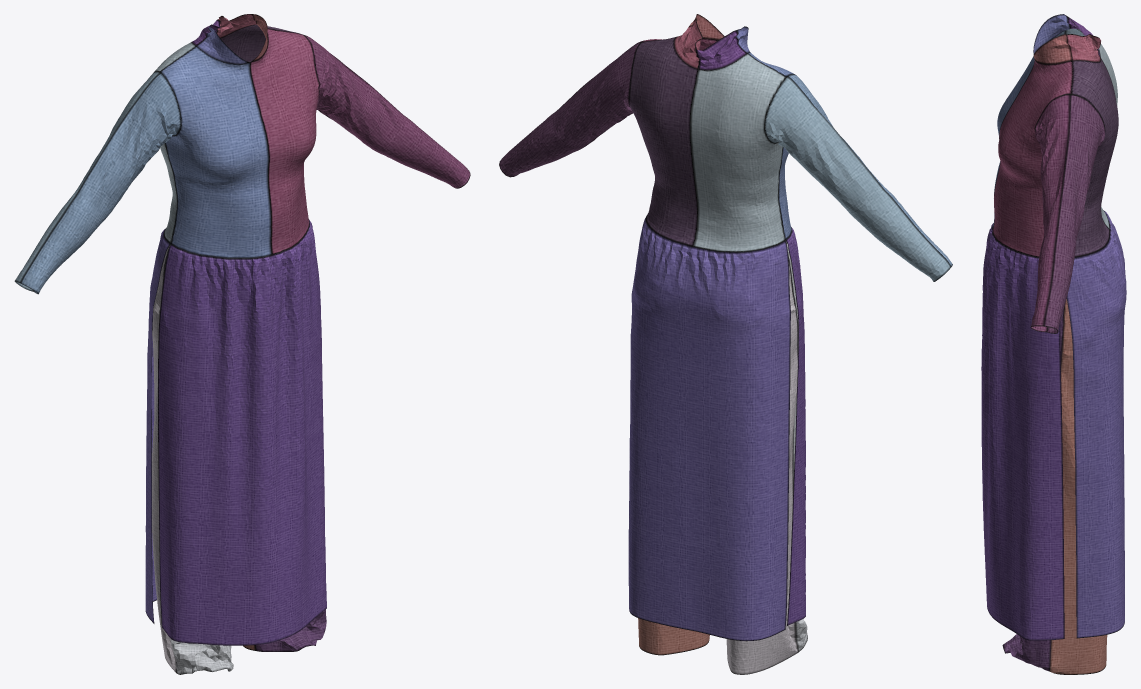
File: ao_dai_sim.obj
3 views of the same model, side by side, from view 1: azimuth 30°, elevation 25°; view 2: azimuth 150°, elevation 25°; view 3: azimuth 270°, elevation 25° (orthographic). The views are drawn at different scales.
Size of the model in its own units: 113 by 152 by 32.3.
1 material, 1 textured.
